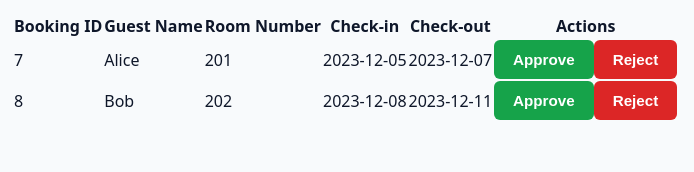
AdminPanel › shows message on rejection
expect the text "Alice" is shown: met, box [104,40,203,79]
Click the button "Reject" in the row of "Alice".
click(636, 60)  # box [594,40,677,79]
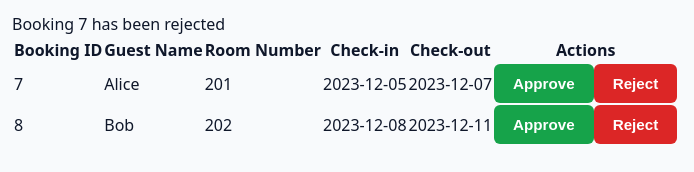
expect the text "Booking 7 has been rejected" is shown: met, box [12,13,225,35]
